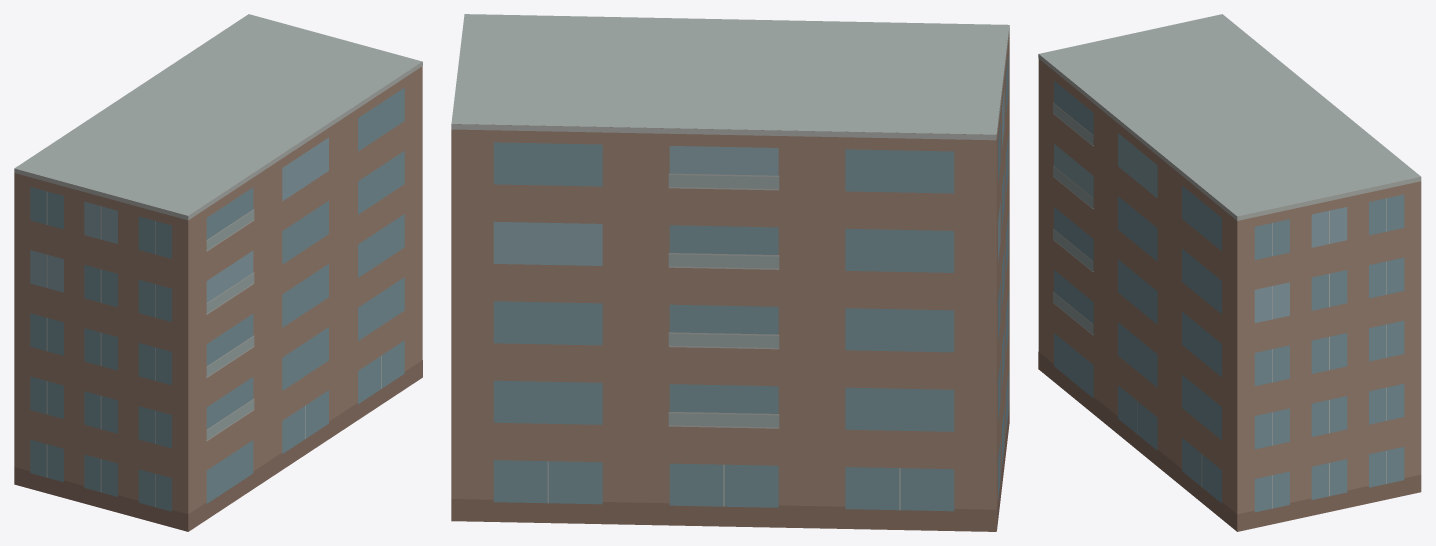
Rendered from survey-upis-32975266.glb.
The picture shows the model from 3 angles, left to right: view 1: azimuth 30°, elevation 25°; view 2: azimuth 150°, elevation 25°; view 3: azimuth 270°, elevation 25°; orthographic projection. The views are drawn at different scales.
Parts seen in each view (by area): view 1: survey-upis-32975266.tmp; view 2: survey-upis-32975266.tmp; view 3: survey-upis-32975266.tmp.
Part boxes in pixels (x1,y1,x2,y2): survey-upis-32975266.tmp: [14, 14, 422, 531]; survey-upis-32975266.tmp: [451, 14, 1009, 531]; survey-upis-32975266.tmp: [1038, 14, 1421, 531].
Size of the model in its own units: 23.98 by 17.4 by 19.15.
